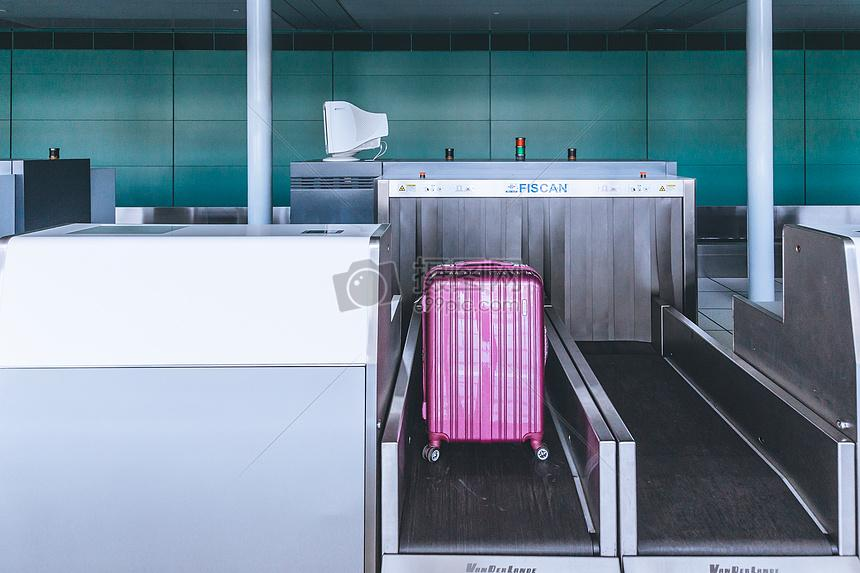baggage: (412, 256, 559, 475)
